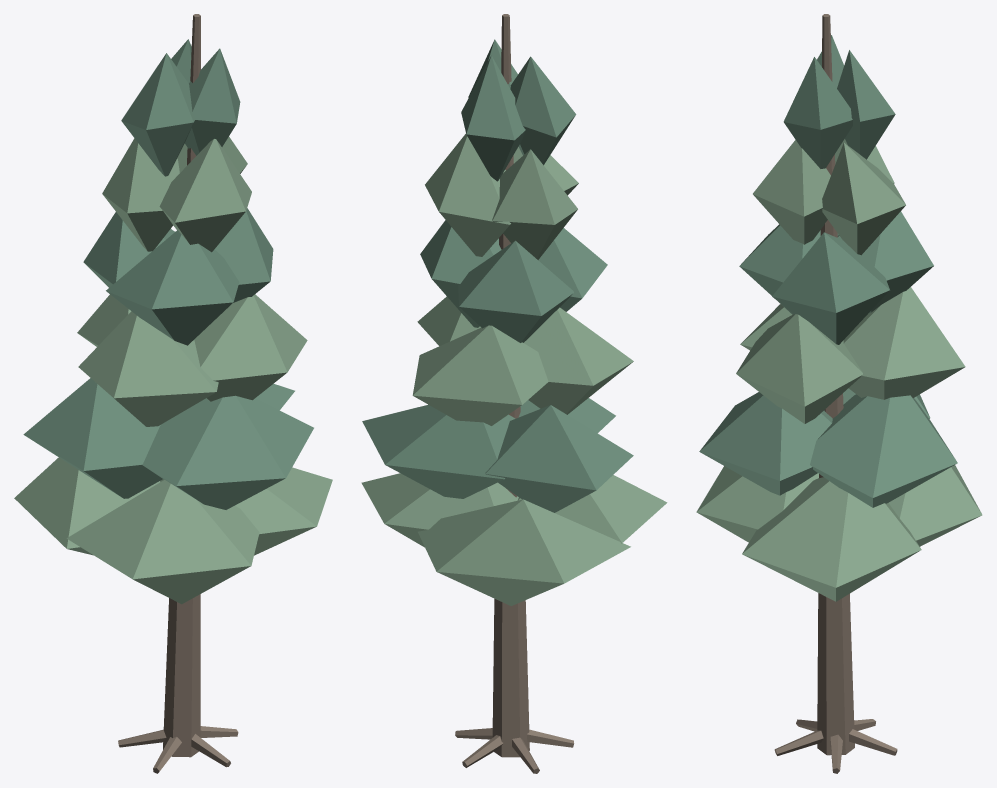
3 views of the same model, side by side, from view 1: azimuth 30°, elevation 25°; view 2: azimuth 150°, elevation 25°; view 3: azimuth 270°, elevation 25° (orthographic).
Size of the model in its own units: 8.01 by 20.61 by 7.25.
